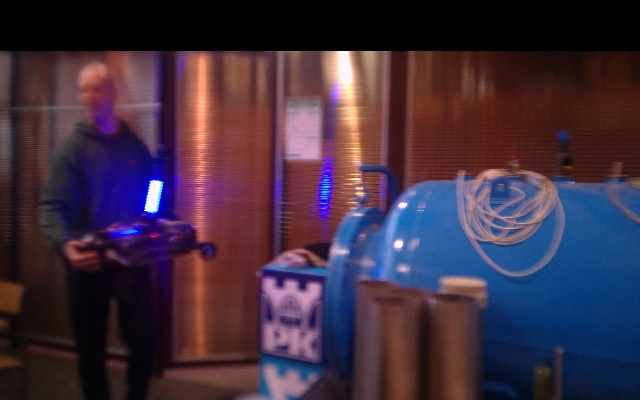blue: (145, 178, 163, 215)
